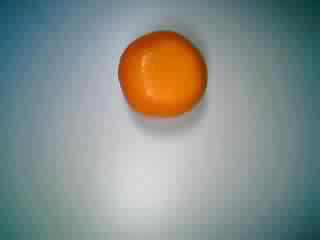orange: (113, 24, 208, 126)
